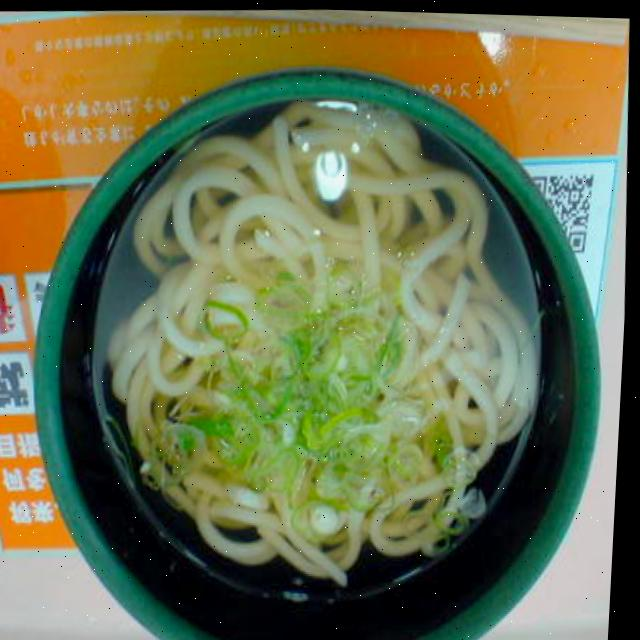面条主食: (13, 55, 625, 640)
